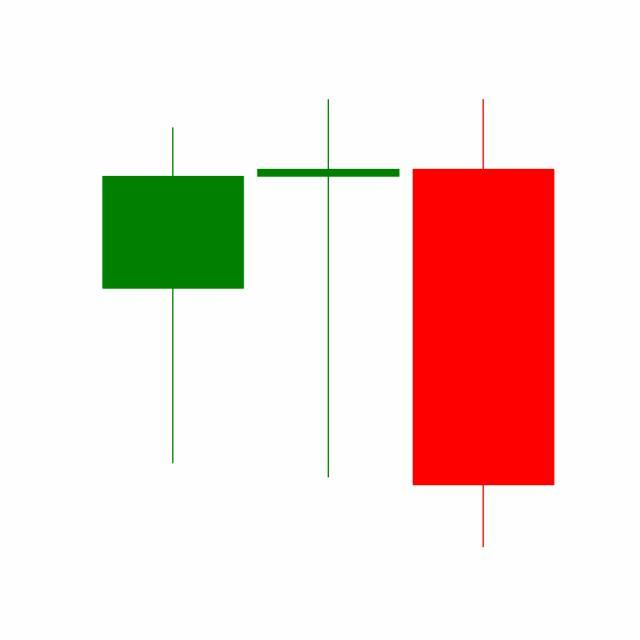Spinning Top: (250, 95, 407, 482)
